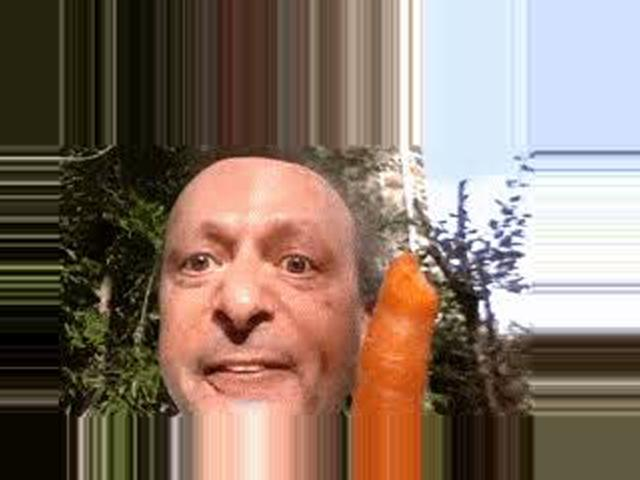carrot: (351, 249, 443, 419)
